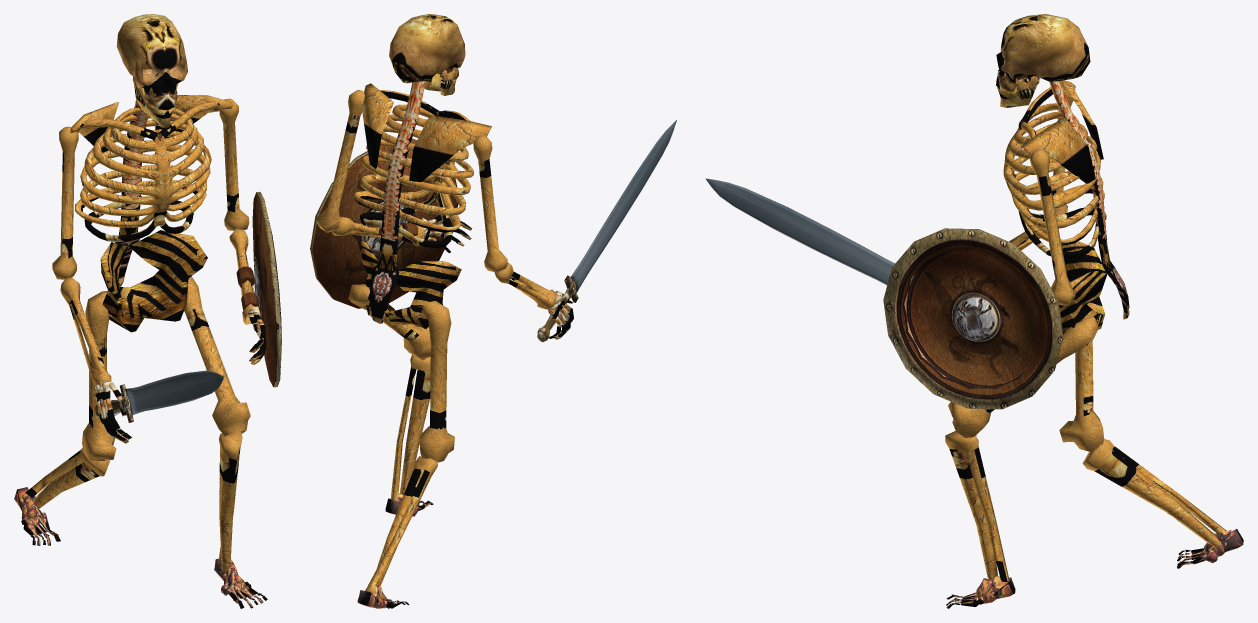
File: Skeleton_000001.obj
The picture shows the model from 3 angles, left to right: view 1: azimuth 30°, elevation 25°; view 2: azimuth 150°, elevation 25°; view 3: azimuth 270°, elevation 25°; orthographic projection. The views are drawn at different scales.
Visible parts, largest first — view 1: Costillar, Coxis, Femur, Skull, Tibia, Shield_Shield.001, Humero, Sword, Radio, Feet, Hands, Omoplato (+1 smaller); view 2: Costillar, Shield_Shield.001, Tibia, Femur, Omoplato, Skull, Humero, Coxis, Sword, Radio, Hands, Feet (+1 smaller); view 3: Shield_Shield.001, Costillar, Tibia, Skull, Sword, Femur, Omoplato, Coxis, Humero, Feet, Mandibula.
Part boxes in pixels (x1=…): Costillar: x1=75, y1=100, x2=220, y2=286; Coxis: x1=100, y1=230, x2=207, y2=332; Femur: x1=82, y1=276, x2=250, y2=460; Skull: x1=116, y1=14, x2=187, y2=110; Tibia: x1=25, y1=431, x2=242, y2=572; Shield_Shield.001: x1=236, y1=192, x2=281, y2=387; Humero: x1=52, y1=98, x2=249, y2=279; Sword: x1=95, y1=370, x2=224, y2=422; Radio: x1=60, y1=228, x2=260, y2=385; Feet: x1=14, y1=487, x2=267, y2=608; Hands: x1=95, y1=306, x2=266, y2=443; Omoplato: x1=70, y1=95, x2=233, y2=152; Costillar: x1=354, y1=81, x2=473, y2=324; Shield_Shield.001: x1=310, y1=138, x2=458, y2=308; Tibia: x1=366, y1=354, x2=437, y2=590; Femur: x1=348, y1=284, x2=454, y2=462; Omoplato: x1=362, y1=83, x2=491, y2=182; Skull: x1=389, y1=14, x2=465, y2=83; Humero: x1=316, y1=90, x2=507, y2=272; Coxis: x1=361, y1=241, x2=461, y2=328; Sword: x1=537, y1=120, x2=676, y2=342; Radio: x1=331, y1=216, x2=556, y2=309; Hands: x1=421, y1=215, x2=573, y2=339; Feet: x1=357, y1=493, x2=433, y2=608; Shield_Shield.001: x1=883, y1=228, x2=1063, y2=409; Costillar: x1=1003, y1=81, x2=1129, y2=319; Tibia: x1=945, y1=431, x2=1226, y2=581; Skull: x1=996, y1=14, x2=1090, y2=91; Sword: x1=706, y1=178, x2=894, y2=285; Femur: x1=948, y1=316, x2=1104, y2=451; Omoplato: x1=1021, y1=80, x2=1103, y2=183; Coxis: x1=1059, y1=241, x2=1107, y2=345; Humero: x1=1029, y1=81, x2=1075, y2=305; Feet: x1=946, y1=529, x2=1243, y2=608; Mandibula: x1=997, y1=75, x2=1039, y2=107.
Bounding box in the file's own units: 3.26 × 8.26 × 7.13.
Materials: 5 (5 with a texture image).
